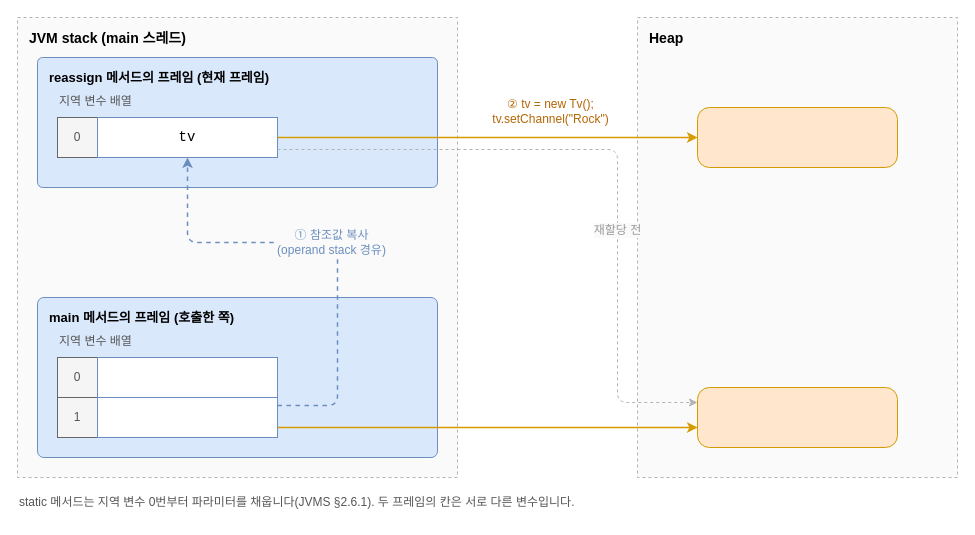
This 975x535 diagram has some shape labels left out. Each missing label, with the centre of its shape:
args: the point at 187,377
myTv: the point at 187,417
Tv 객체 channel = "Classic": the point at 797,417
Tv 객체 channel = "Rock": the point at 797,137
